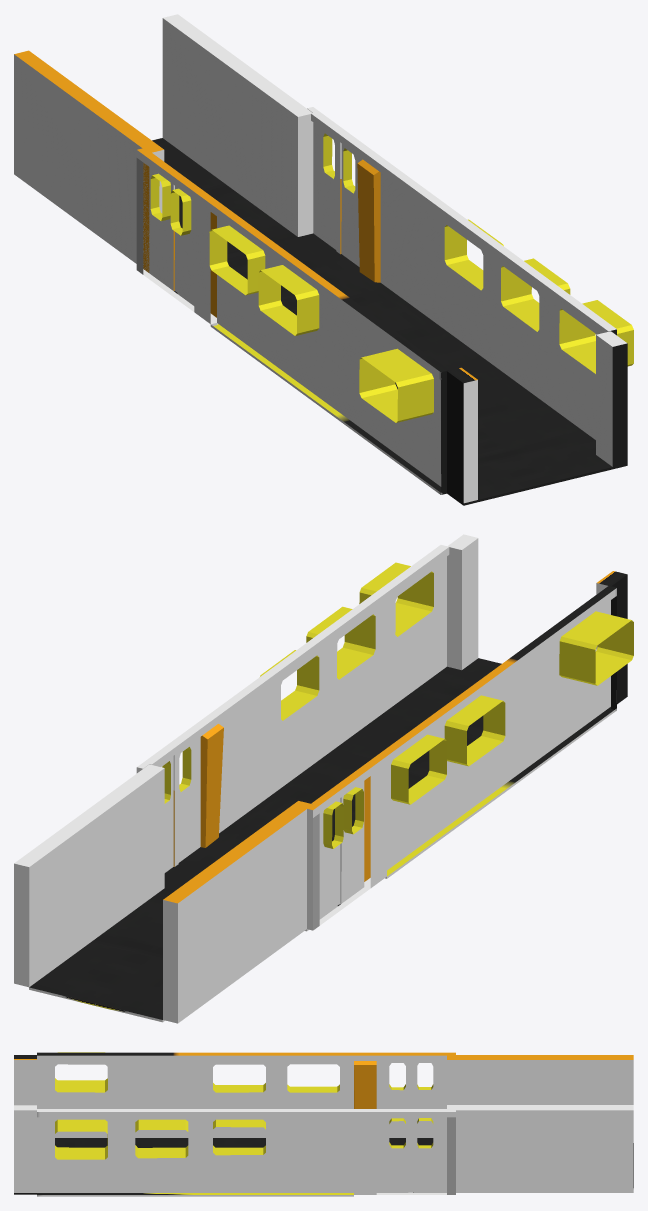
Rendered from inside_train.fbx.
3 views of the same model, one above another, from view 1: azimuth 30°, elevation 25°; view 2: azimuth 150°, elevation 25°; view 3: azimuth 270°, elevation 25° (orthographic). The views are drawn at different scales.
Visible parts, largest first — view 1: Cube; view 2: Cube; view 3: Cube.
Part boxes in pixels (x1,y1,x2,y2): Cube: [14, 14, 633, 505]; Cube: [14, 534, 633, 1023]; Cube: [14, 1052, 633, 1196].
Size of the model in its own units: 1067 by 530 by 3520.
